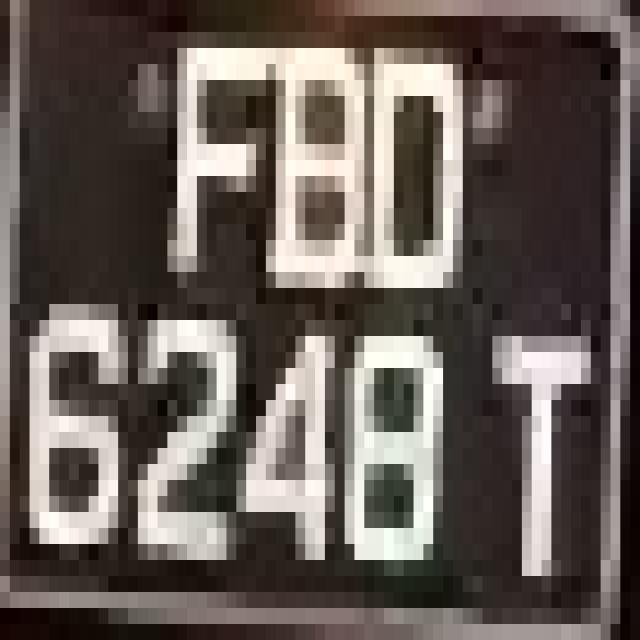2: (108, 288, 226, 560)
4: (226, 288, 344, 560)
6: (20, 256, 138, 560)
8: (325, 304, 443, 576)
B: (266, 0, 354, 368)
D: (364, 16, 463, 320)
F: (148, 16, 246, 304)
T: (472, 288, 590, 608)
